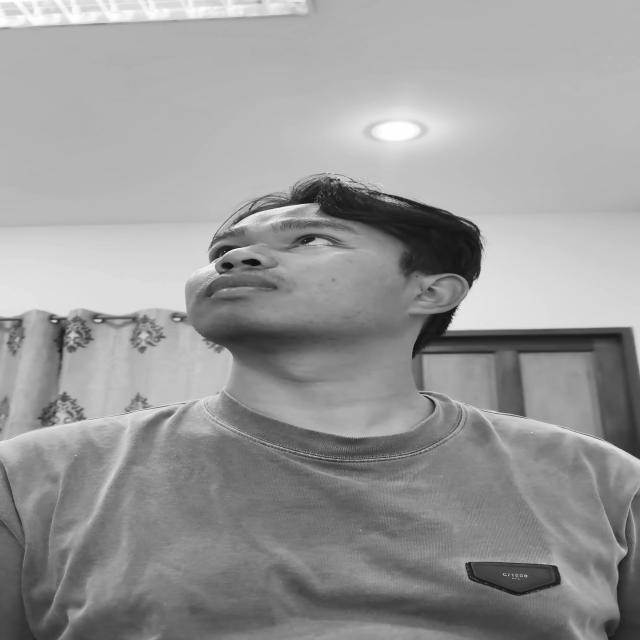ear: (408, 273, 469, 316)
